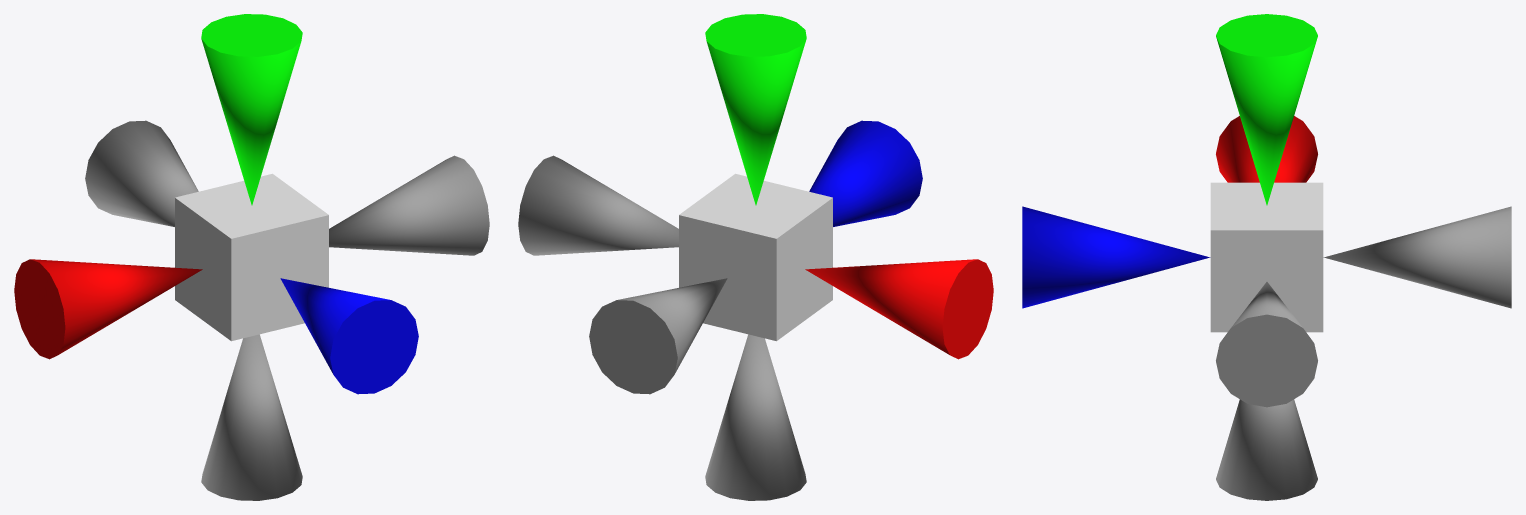
The model's file is origin.fbx.
The picture shows the model from 3 angles, left to right: view 1: azimuth 30°, elevation 25°; view 2: azimuth 150°, elevation 25°; view 3: azimuth 270°, elevation 25°; orthographic projection.
Visible parts, largest first — view 1: Cube; view 2: Cube; view 3: Cube.
Part boxes in pixels (x1,y1,x2,y2): Cube: [14, 14, 489, 500]; Cube: [518, 14, 993, 500]; Cube: [1022, 14, 1511, 500].
Bounding box in the file's own units: 43.38 × 43.38 × 43.38.
